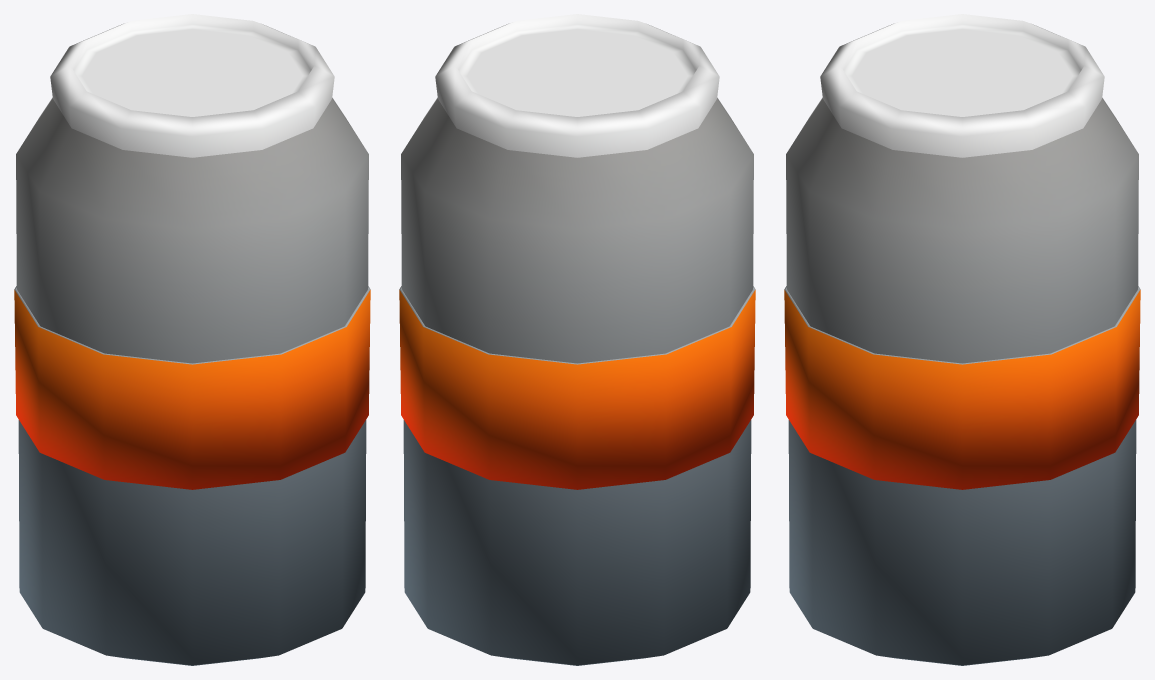
Rendered from Coke.fbx.
3 renders of one model, left to right at view 1: azimuth 30°, elevation 25°; view 2: azimuth 150°, elevation 25°; view 3: azimuth 270°, elevation 25°, orthographic.
Parts seen in each view (by area): view 1: Coke; view 2: Coke; view 3: Coke.
Part boxes in pixels (x1,y1,x2,y2): Coke: (14,14,370,665); Coke: (399,14,755,665); Coke: (784,14,1140,665).
Bounding box in the file's own units: 0.0995 × 0.1676 × 0.0995.
